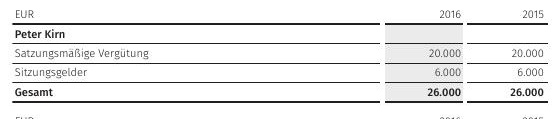table: (0, 0, 559, 119)
